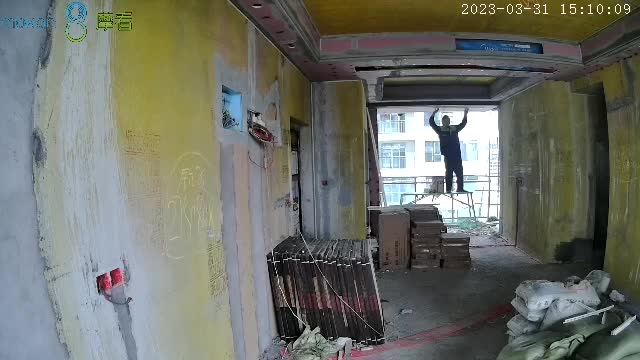people: (427, 111, 469, 195)
window: (378, 109, 500, 234)
